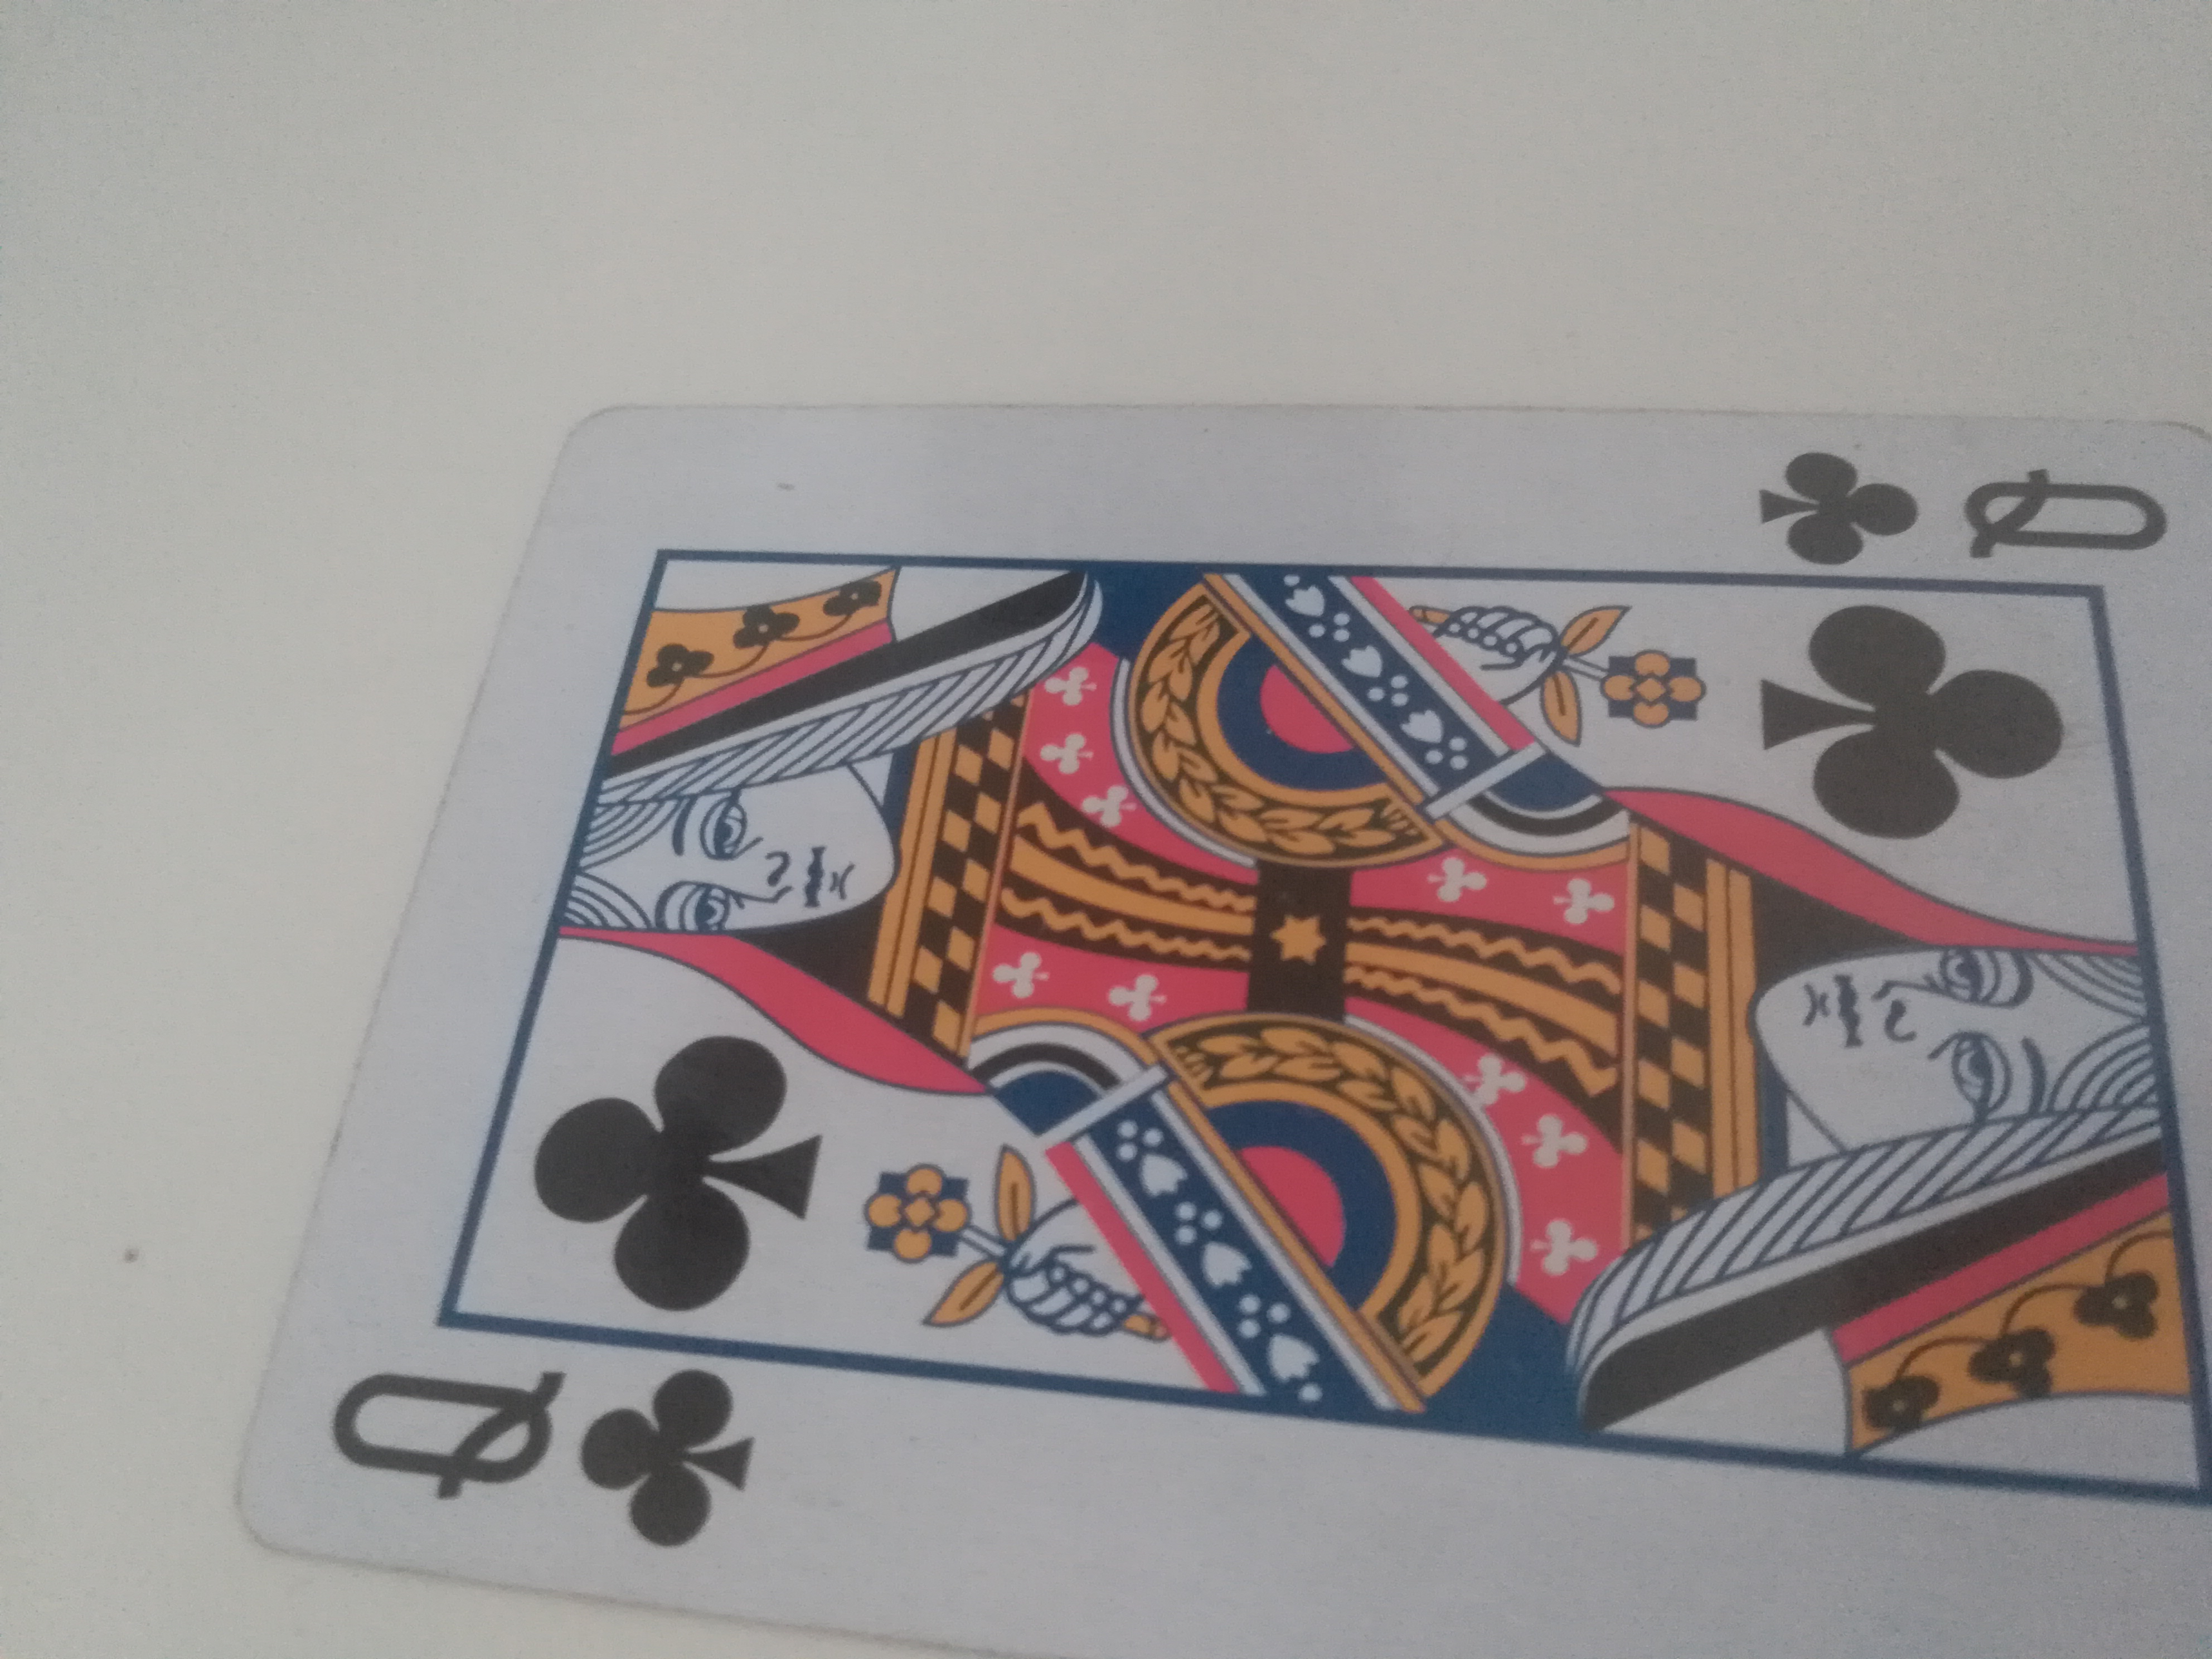QC: (240, 378, 2212, 1656)
